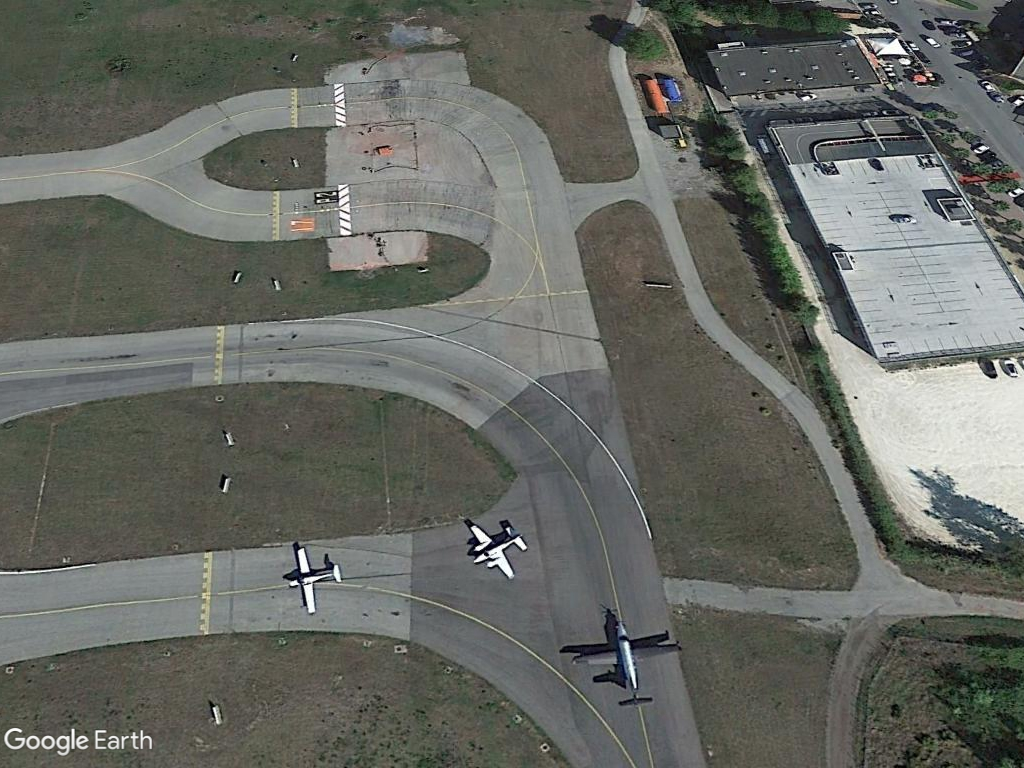trainer: (572, 619, 682, 708), (283, 545, 344, 618), (464, 518, 531, 583)
